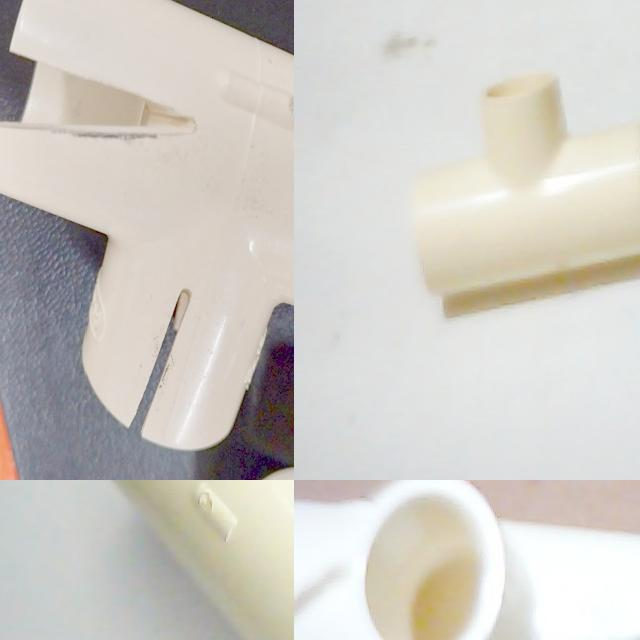Defective: (27, 262, 86, 480), (196, 266, 294, 349), (533, 571, 640, 640), (294, 502, 347, 640), (56, 0, 108, 138), (86, 0, 107, 51)
T Joint: (0, 0, 294, 480), (294, 480, 640, 640), (411, 75, 640, 295), (110, 480, 294, 640)
